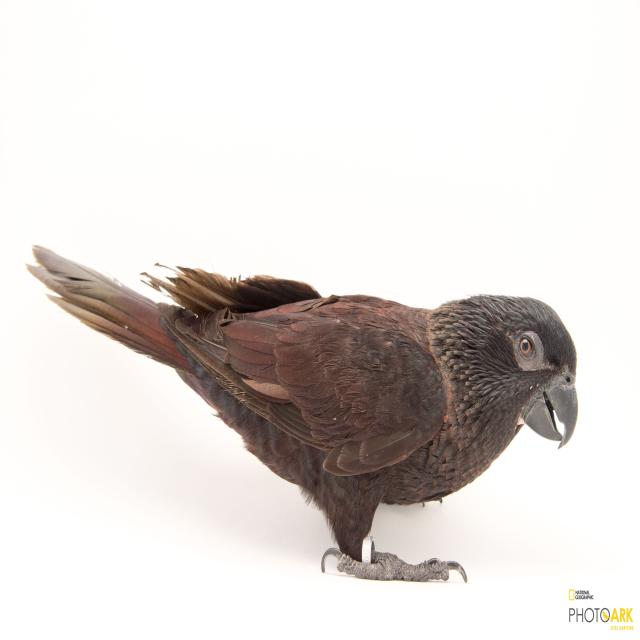Nuri Hitam: (26, 223, 595, 606)
